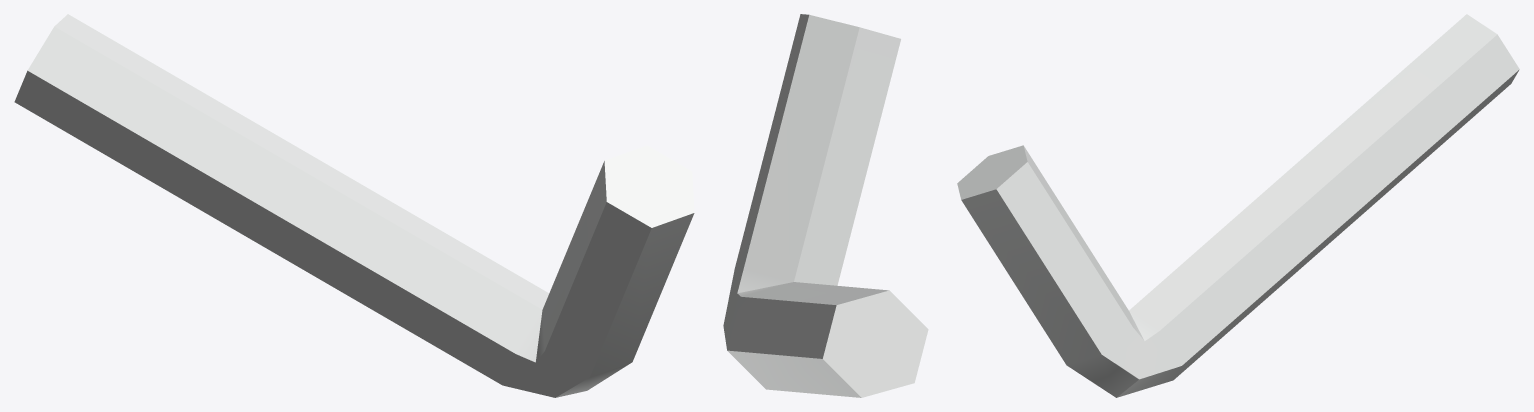
3 renders of one model, left to right at view 1: azimuth 30°, elevation 25°; view 2: azimuth 150°, elevation 25°; view 3: azimuth 270°, elevation 25°, orthographic. The views are drawn at different scales.
Parts seen in each view (by area): view 1: neiliujiao_pCylinder4_neiliujiao1_Gong_ju; view 2: neiliujiao_pCylinder4_neiliujiao1_Gong_ju; view 3: neiliujiao_pCylinder4_neiliujiao1_Gong_ju.
Part boxes in pixels (box(x1,y1,x2,y2)): neiliujiao_pCylinder4_neiliujiao1_Gong_ju: box(14, 14, 694, 397); neiliujiao_pCylinder4_neiliujiao1_Gong_ju: box(723, 14, 928, 397); neiliujiao_pCylinder4_neiliujiao1_Gong_ju: box(957, 14, 1519, 397).
Bounding box in the file's own units: 1.96 × 1.4 × 2.87.
1 material, 1 textured.
